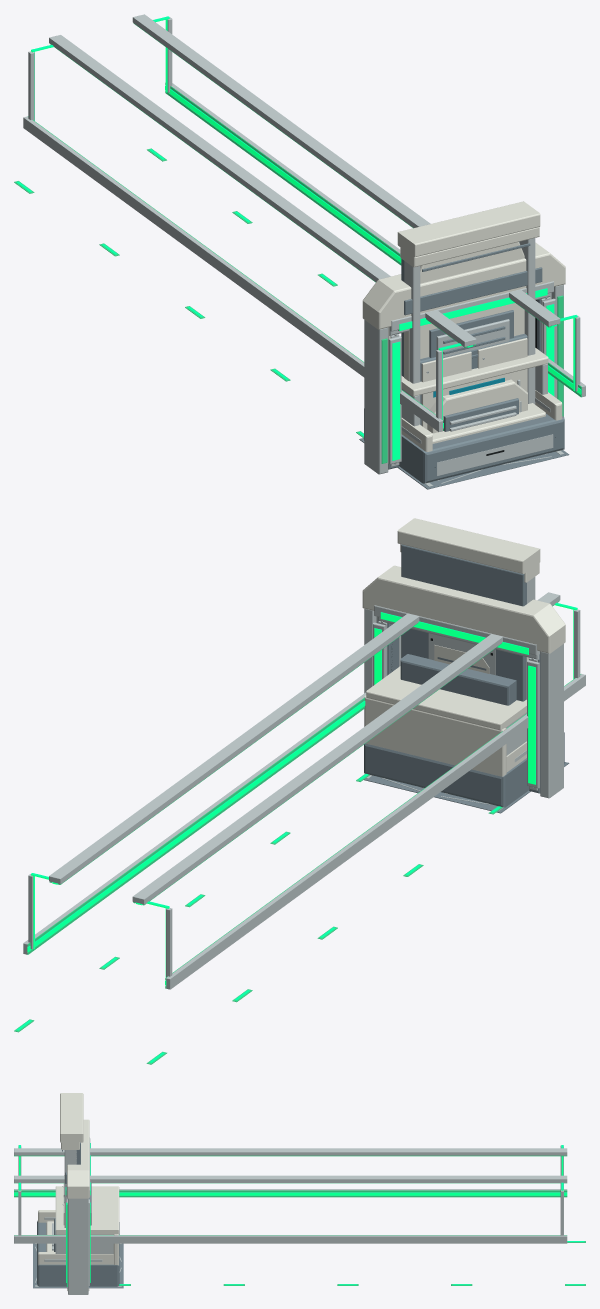
File: genesis-cinematic-kit.glb
3 views of the same model, one above another, from view 1: azimuth 30°, elevation 25°; view 2: azimuth 150°, elevation 25°; view 3: azimuth 270°, elevation 25° (orthographic). The views are drawn at different scales.
Parts seen in each view (by area): view 1: corridor-guides__titanium, exterior-facade__composite, sleep-berth__graphite, entrance-crown__composite, sleep-berth__composite, exterior-facade__titanium, corridor-guides__reflection, entrance-crown__titanium, corridor-guides__green, life-support__composite, sleep-berth__titanium, green-airlock__titanium (+7 smaller); view 2: corridor-guides__titanium, sleep-berth__composite, entrance-crown__composite, exterior-facade__graphite, sleep-berth__graphite, corridor-guides__reflection, exterior-facade__composite, entrance-crown__titanium, corridor-guides__green, life-support__graphite, green-airlock__titanium, green-airlock__green (+2 smaller); view 3: corridor-guides__titanium, corridor-guides__reflection, sleep-berth__composite, corridor-guides__green, entrance-crown__titanium, sleep-berth__graphite, exterior-facade__composite, entrance-crown__composite, floor-cassette__graphite, sleep-berth__titanium, exterior-facade__titanium, green-airlock__titanium.
Boxes of the visible parts, x1,y1,x2,y2 form: corridor-guides__titanium: (23,14,585,431); exterior-facade__composite: (397,201,540,381); sleep-berth__graphite: (364,408,564,483); entrance-crown__composite: (362,242,565,329); sleep-berth__composite: (401,348,562,483); exterior-facade__titanium: (404,238,535,424); corridor-guides__reflection: (14,23,581,438); entrance-crown__titanium: (364,284,563,474); corridor-guides__green: (16,16,581,436); life-support__composite: (421,338,527,429); sleep-berth__titanium: (401,363,553,475); green-airlock__titanium: (388,281,555,466); corridor-guides__titanium: (23,592,585,989); sleep-berth__composite: (364,666,526,805); entrance-crown__composite: (362,565,565,653); exterior-facade__graphite: (401,544,526,701); sleep-berth__graphite: (364,732,564,807); corridor-guides__reflection: (14,601,580,1064); exterior-facade__composite: (397,518,540,699); entrance-crown__titanium: (364,608,563,798); corridor-guides__green: (16,603,577,1062); life-support__graphite: (400,654,516,705); green-airlock__titanium: (373,605,539,790); green-airlock__green: (374,612,535,784); corridor-guides__titanium: (14,1145,567,1243); corridor-guides__reflection: (14,1155,585,1285); sleep-berth__composite: (38,1186,119,1265); corridor-guides__green: (14,1145,584,1285); entrance-crown__titanium: (68,1198,88,1294); sleep-berth__graphite: (37,1220,119,1286); exterior-facade__composite: (60,1093,83,1149); entrance-crown__composite: (67,1119,89,1198); floor-cassette__graphite: (33,1243,123,1288); sleep-berth__titanium: (44,1217,113,1261); exterior-facade__titanium: (64,1150,76,1227); green-airlock__titanium: (66,1137,90,1285).
Bounding box in the file's own units: 4.43 × 5.5 × 17.61.
Materials: 7 (1 with a texture image).
